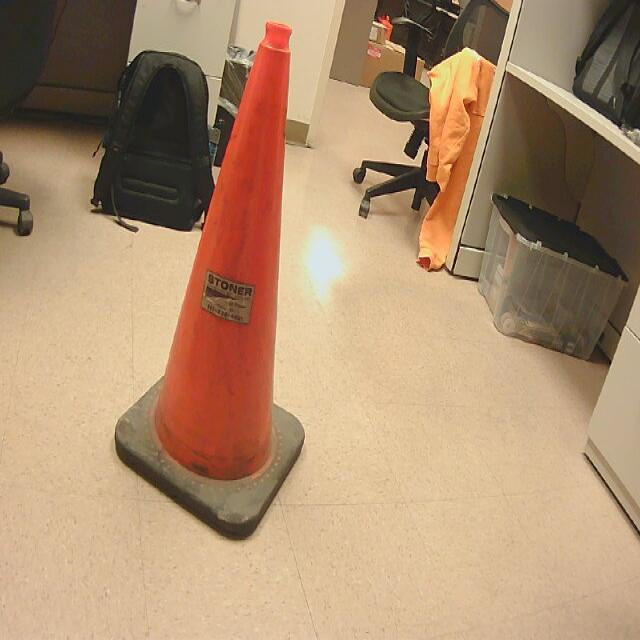traffic cone: (115, 22, 306, 544)
